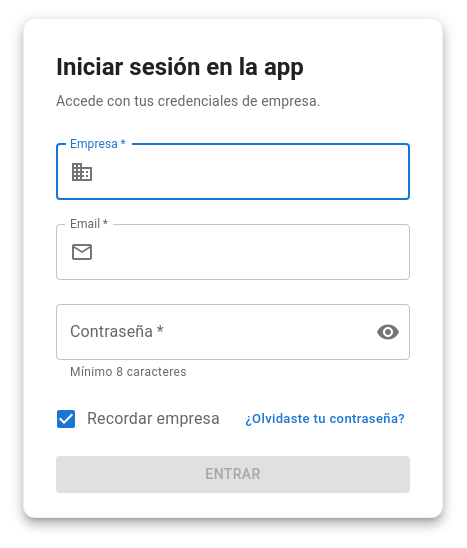
LoginForm Component › Form Validation › should enable submit button when all fields are valid
Step 1. Type "test-company" into the field labelled "Empresa *" → [256, 172], box [102,144,410,200]
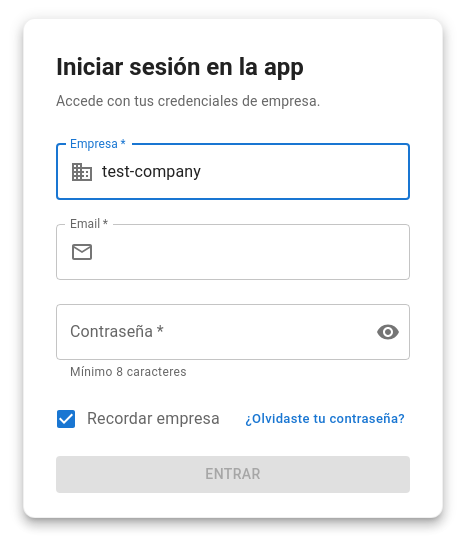
Step 2. Type "user@example.com" into the field labelled "Email *" → [256, 252], box [102,224,410,280]
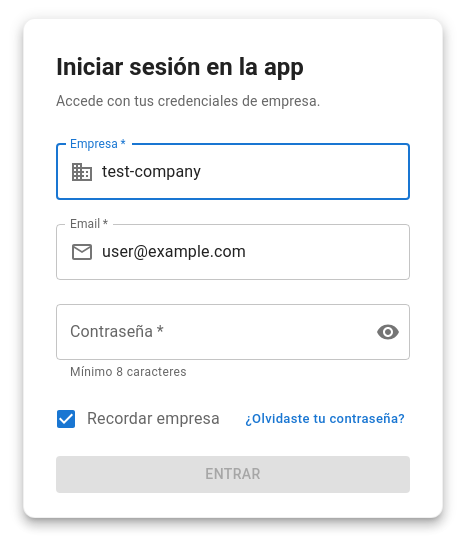
Step 3. Type "password123" into the password field labelled "Contraseña *" → [208, 332], box [56,304,360,360]
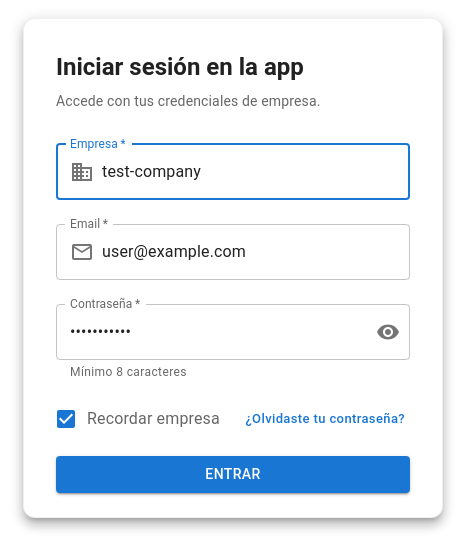
Expected: the button "Entrar" is enabled, [56,456,410,493]
